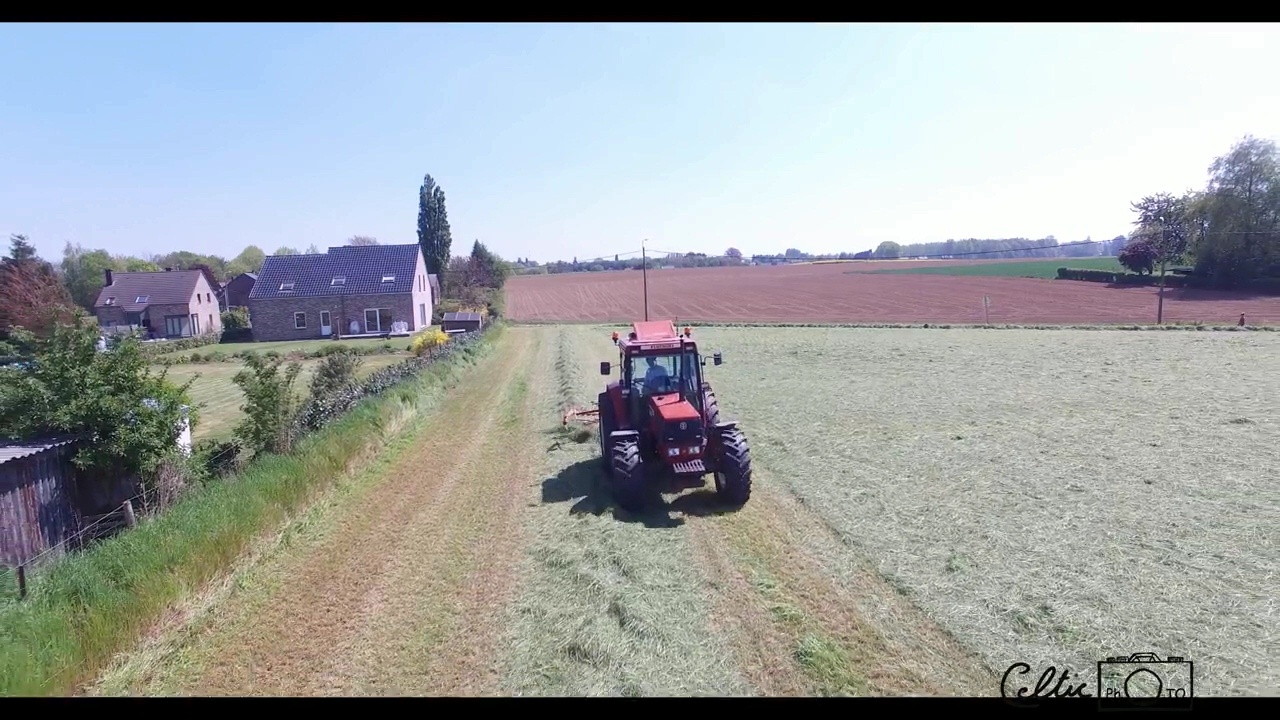traktor: (600, 303, 757, 504)
